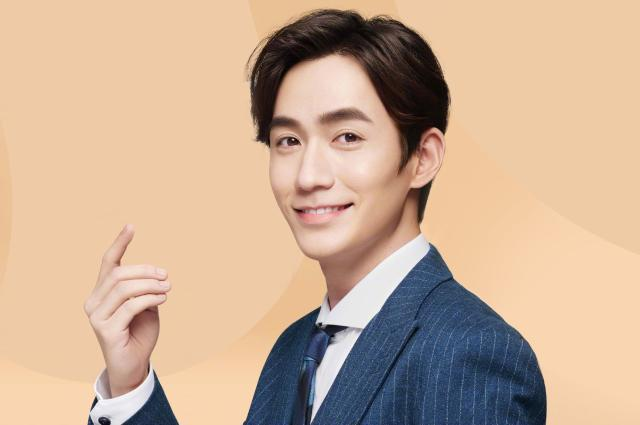person: (202, 19, 575, 425)
